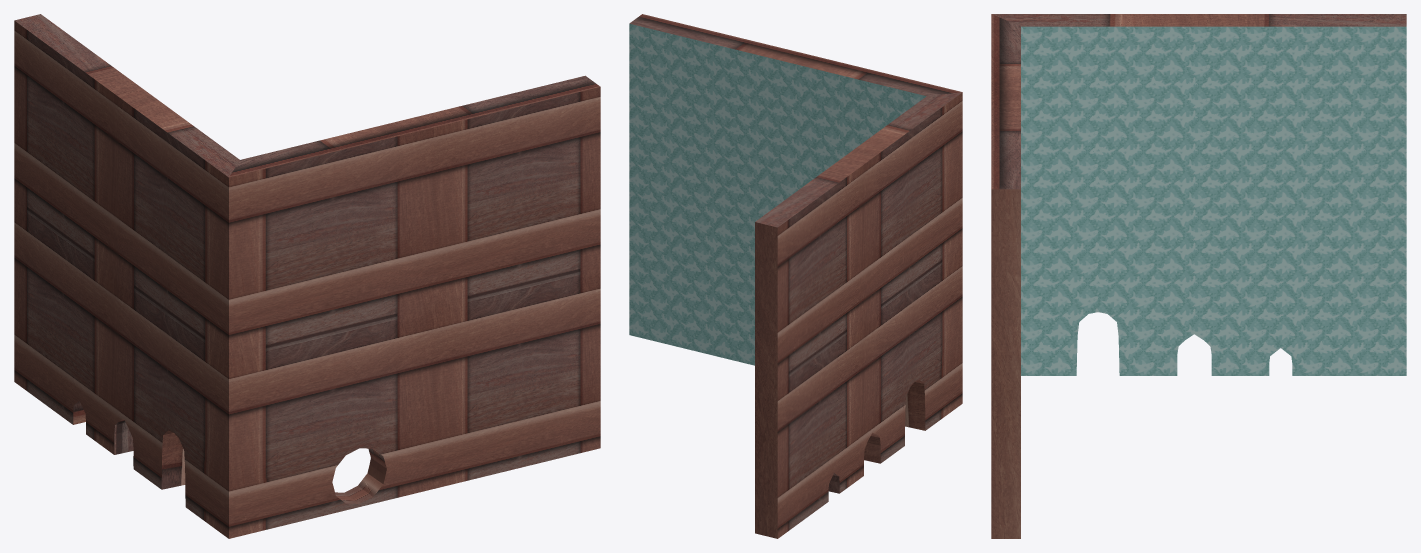
Rendered from MenuWalls.fbx.
The picture shows the model from 3 angles, left to right: view 1: azimuth 30°, elevation 25°; view 2: azimuth 150°, elevation 25°; view 3: azimuth 270°, elevation 25°; orthographic projection. The views are drawn at different scales.
Visible parts, largest first — view 1: polySurface7; view 2: polySurface7; view 3: polySurface7.
Part boxes in pixels (x1=…): polySurface7: x1=14, y1=14, x2=600, y2=538; polySurface7: x1=629, y1=14, x2=962, y2=538; polySurface7: x1=991, y1=14, x2=1406, y2=538.
Bounding box in the file's own units: 21.53 × 20 × 21.53.
Materials: 2 (2 with a texture image).
